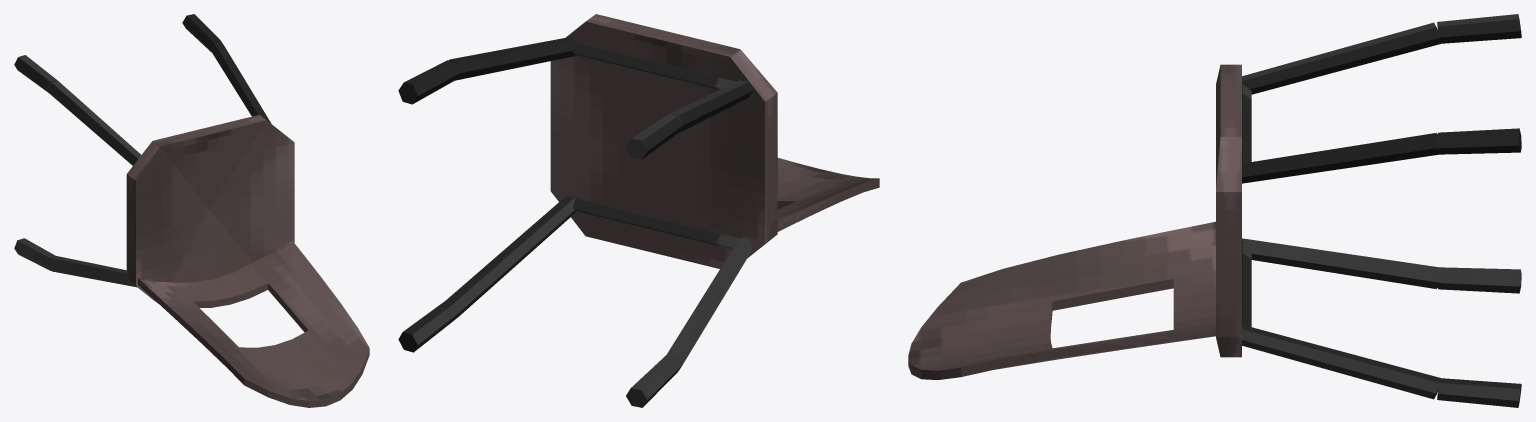
File: pz_chair_seating_indoor_03_grey_plastic_fidelity_r1.obj
The picture shows the model from 3 angles, left to right: view 1: azimuth 30°, elevation 25°; view 2: azimuth 150°, elevation 25°; view 3: azimuth 270°, elevation 25°; orthographic projection. The views are drawn at different scales.
Parts seen in each view (by area): view 1: seat, back, frame; view 2: seat, frame, back; view 3: frame, back, seat.
Part boxes in pixels (x1,y1,x2,y2): seat: [126, 115, 294, 303]; back: [138, 240, 369, 407]; frame: [14, 14, 271, 287]; seat: [550, 14, 777, 268]; frame: [398, 37, 752, 407]; back: [777, 158, 879, 231]; frame: [1242, 14, 1521, 407]; back: [908, 221, 1215, 380]; seat: [1216, 64, 1241, 357].
Bounding box in the file's own units: 0.4251 × 0.4642 × 0.884.
Materials: 1 (1 with a texture image).
